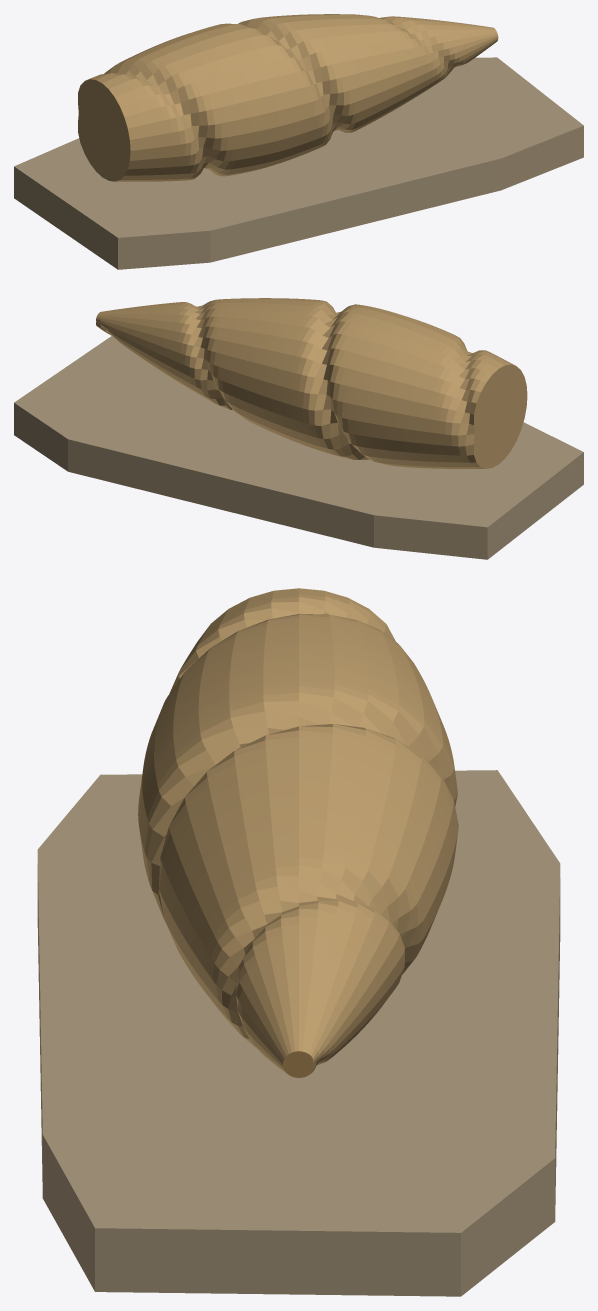
File: spiral-coprolite.glb
The picture shows the model from 3 angles, top to bottom: view 1: azimuth 30°, elevation 25°; view 2: azimuth 150°, elevation 25°; view 3: azimuth 270°, elevation 25°; orthographic projection. The views are drawn at different scales.
Parts seen in each view (by area): view 1: subdued-irregular-matrix, single-solid-three-turn-spiral-coprolite; view 2: subdued-irregular-matrix, single-solid-three-turn-spiral-coprolite; view 3: subdued-irregular-matrix, single-solid-three-turn-spiral-coprolite.
Part boxes in pixels (x1,y1,x2,y2): subdued-irregular-matrix: (14,57,583,269); single-solid-three-turn-spiral-coprolite: (78,14,498,181); subdued-irregular-matrix: (14,336,583,559); single-solid-three-turn-spiral-coprolite: (96,298,527,468); subdued-irregular-matrix: (37,770,560,1296); single-solid-three-turn-spiral-coprolite: (138,588,458,1077).
Size of the model in its own units: 0.1089 by 0.0355 by 0.052.
